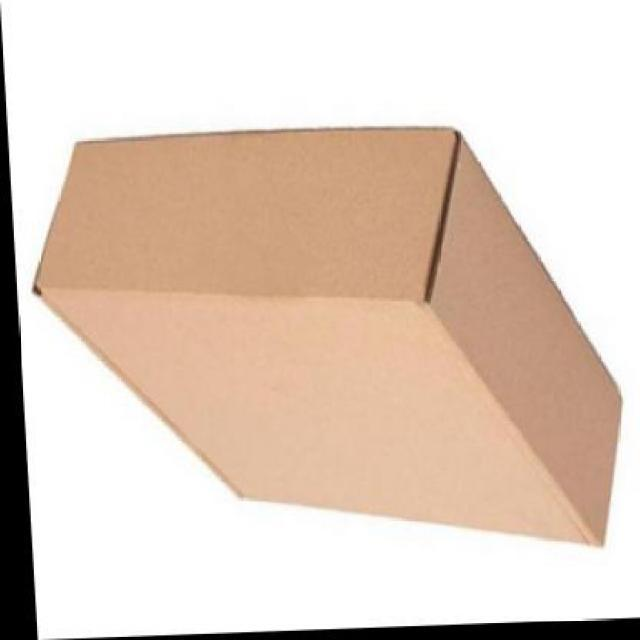box: (21, 117, 625, 568)
